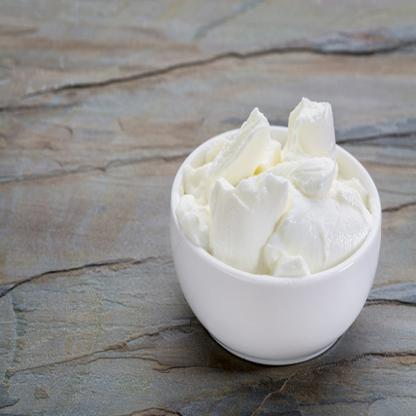yogurt: (177, 102, 371, 283)
